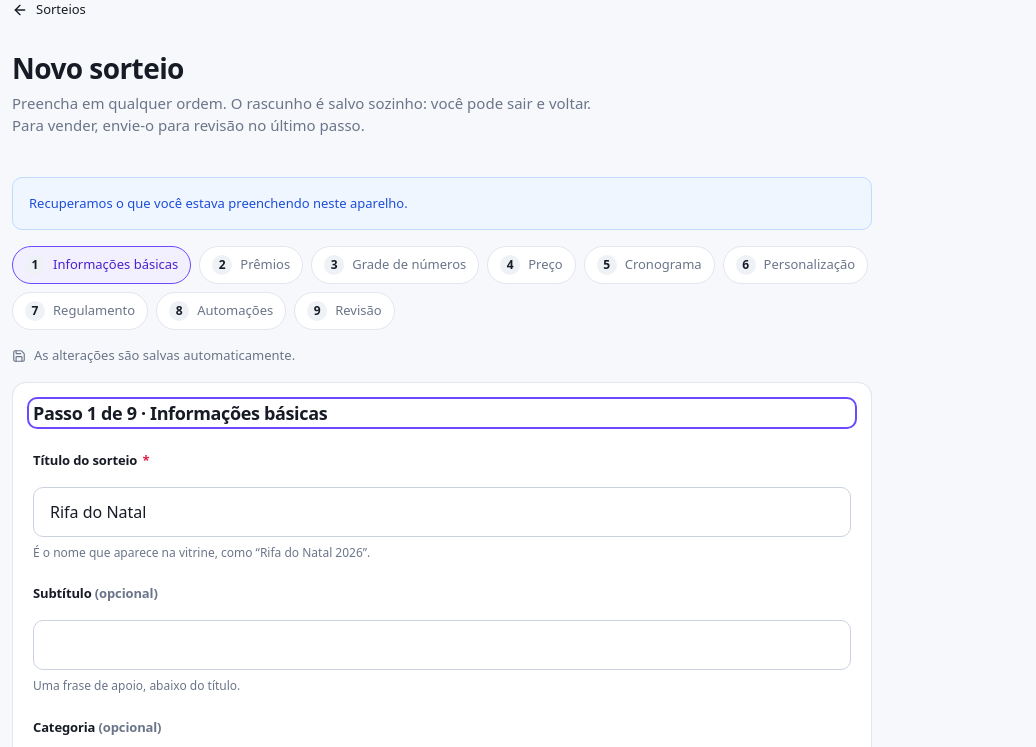
Scenario: revisao e envio › a API recusa o envio (ex.: limite do plano): a mensagem aparece e nada navega
Click the button "9 Revisão".
click(344, 311)  # box [294,292,395,330]
(page scrolled)
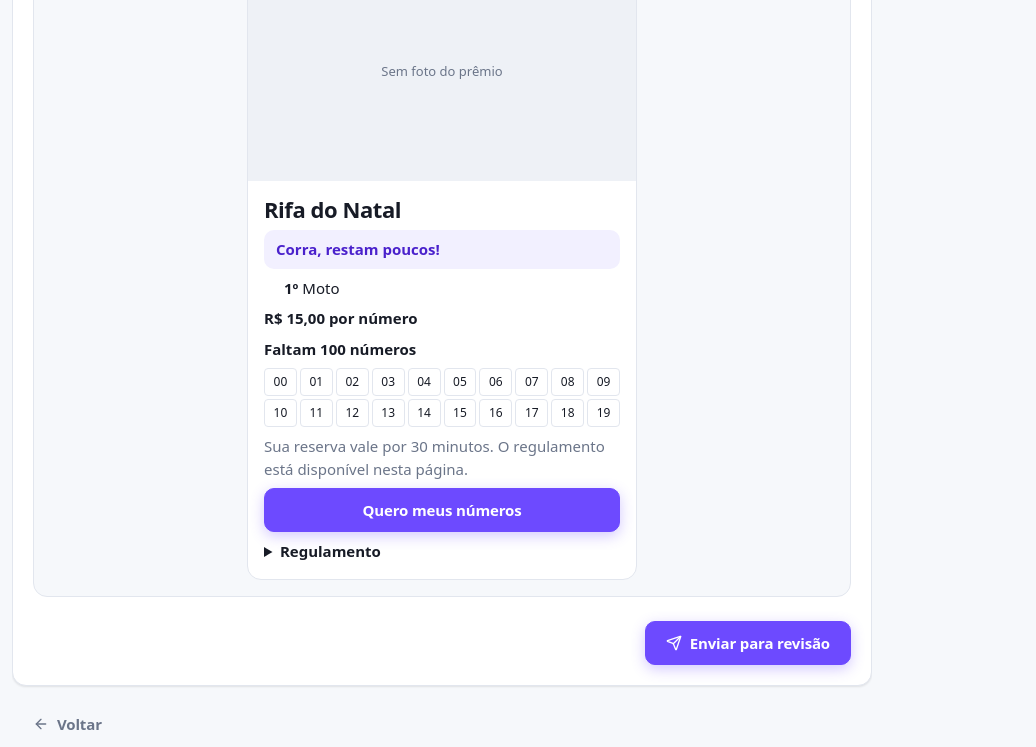
Click the button "Enviar para revisão".
click(748, 643)  # box [645,621,851,665]
Wait 10 ms
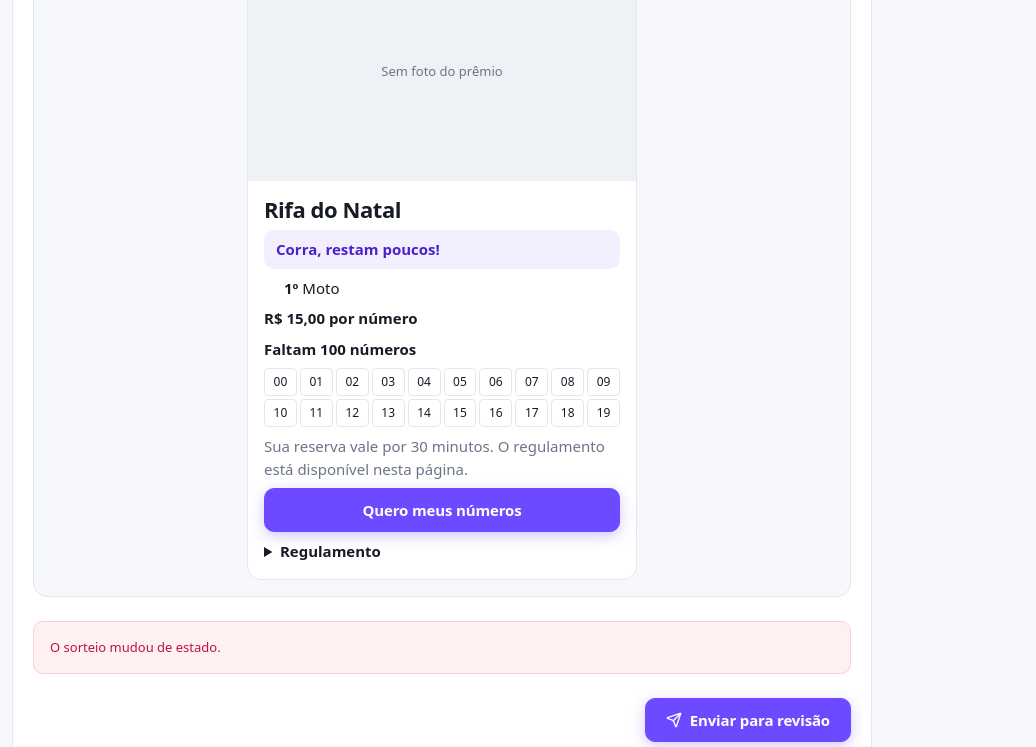
Check: the button "Enviar para revisão" is enabled, box [645,698,851,742]
Check: the text "O sorteio mudou de estado." is shown, box [50,638,221,656]
